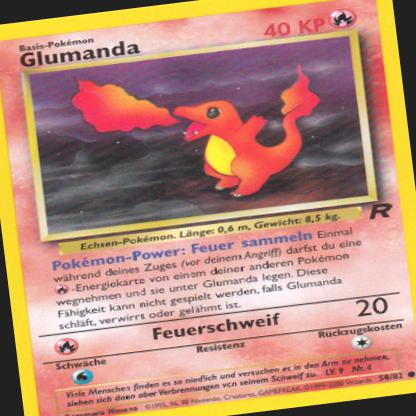Charmander: (171, 86, 317, 208)
